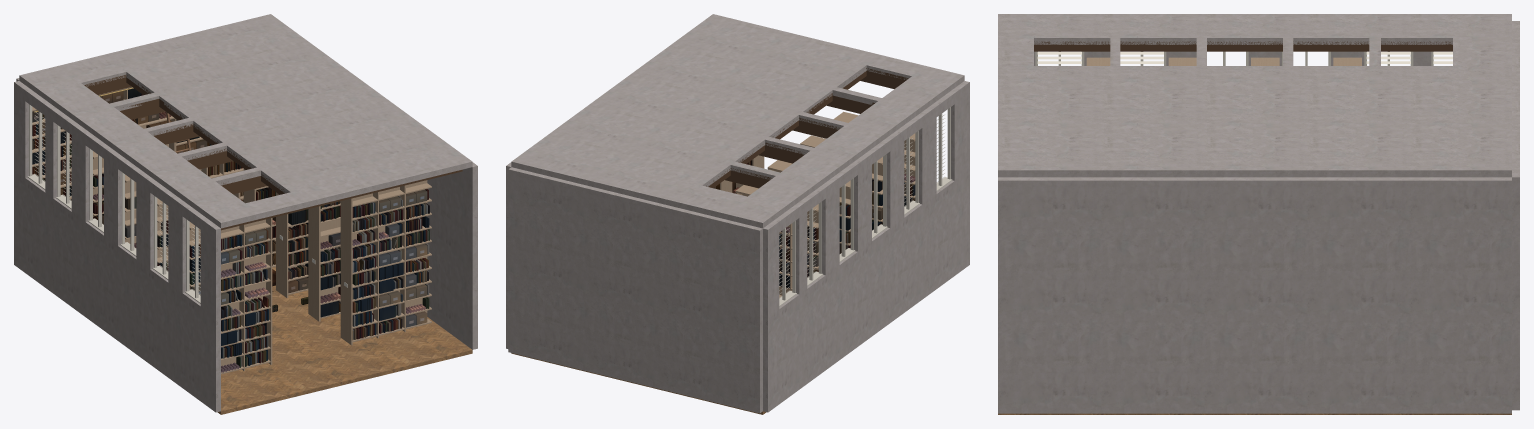
Rendered from archive.glb.
3 renders of one model, left to right at view 1: azimuth 30°, elevation 25°; view 2: azimuth 150°, elevation 25°; view 3: azimuth 270°, elevation 25°, orthographic. The views are drawn at different scales.
Visible parts, largest first — view 1: Archive_shell, Archive_books; view 2: Archive_shell, Archive_books; view 3: Archive_shell.
Boxes of the visible parts, bbox=[...] form: Archive_shell: bbox=[14, 14, 477, 414]; Archive_books: bbox=[32, 87, 429, 372]; Archive_shell: bbox=[506, 14, 969, 414]; Archive_books: bbox=[713, 160, 915, 288]; Archive_shell: bbox=[998, 14, 1519, 414].
Size of the model in its own units: 7.5 by 5.25 by 10.15.
45 materials, 17 textured.
